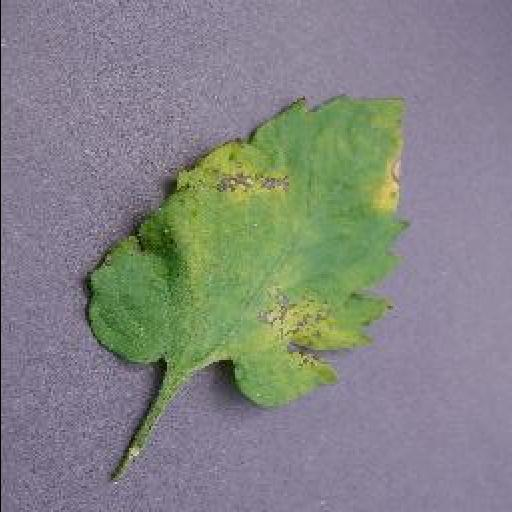disease_tomato: (82, 99, 414, 408)
